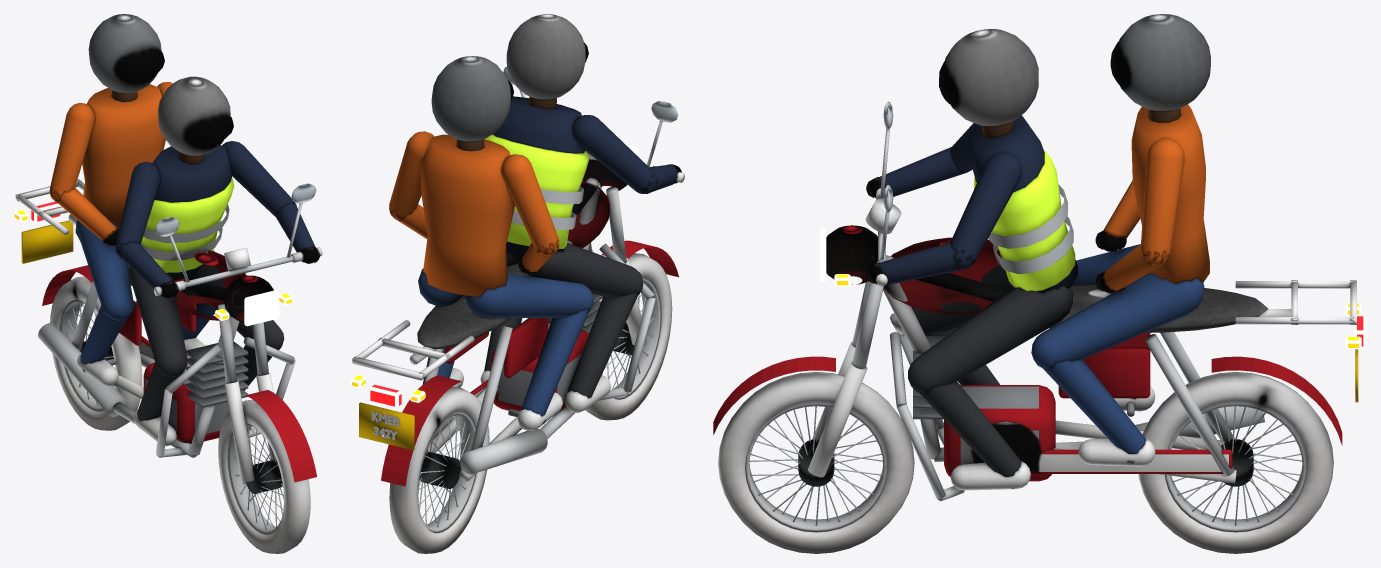
File: boda.glb
The picture shows the model from 3 angles, left to right: view 1: azimuth 30°, elevation 25°; view 2: azimuth 150°, elevation 25°; view 3: azimuth 270°, elevation 25°; orthographic projection. The views are drawn at different scales.
Parts seen in each view (by area): view 1: body, rider, passenger, wheel_f, wheel_r, lights; view 2: passenger, body, rider, wheel_r, wheel_f, lights; view 3: body, rider, passenger, wheel_f, wheel_r, lights.
Part boxes in pixels (x1,y1,x2,y2): body: (15, 179, 322, 482); rider: (115, 76, 320, 446); passenger: (49, 14, 215, 386); wheel_f: (218, 400, 310, 553); wheel_r: (50, 276, 142, 430); lights: (14, 201, 292, 326); passenger: (389, 56, 593, 431); body: (352, 66, 684, 486); rider: (480, 14, 681, 412); wheel_r: (389, 387, 489, 553); wheel_f: (585, 253, 672, 420); lights: (351, 143, 637, 408); body: (713, 101, 1358, 501); rider: (866, 29, 1077, 490); passenger: (1031, 14, 1210, 466); wheel_f: (718, 372, 914, 553); wheel_r: (1138, 372, 1333, 553); lights: (819, 228, 1366, 349).
Bounding box in the file's own units: 0.7849 × 1.8 × 1.99.
Materials: 30 (26 with a texture image).
